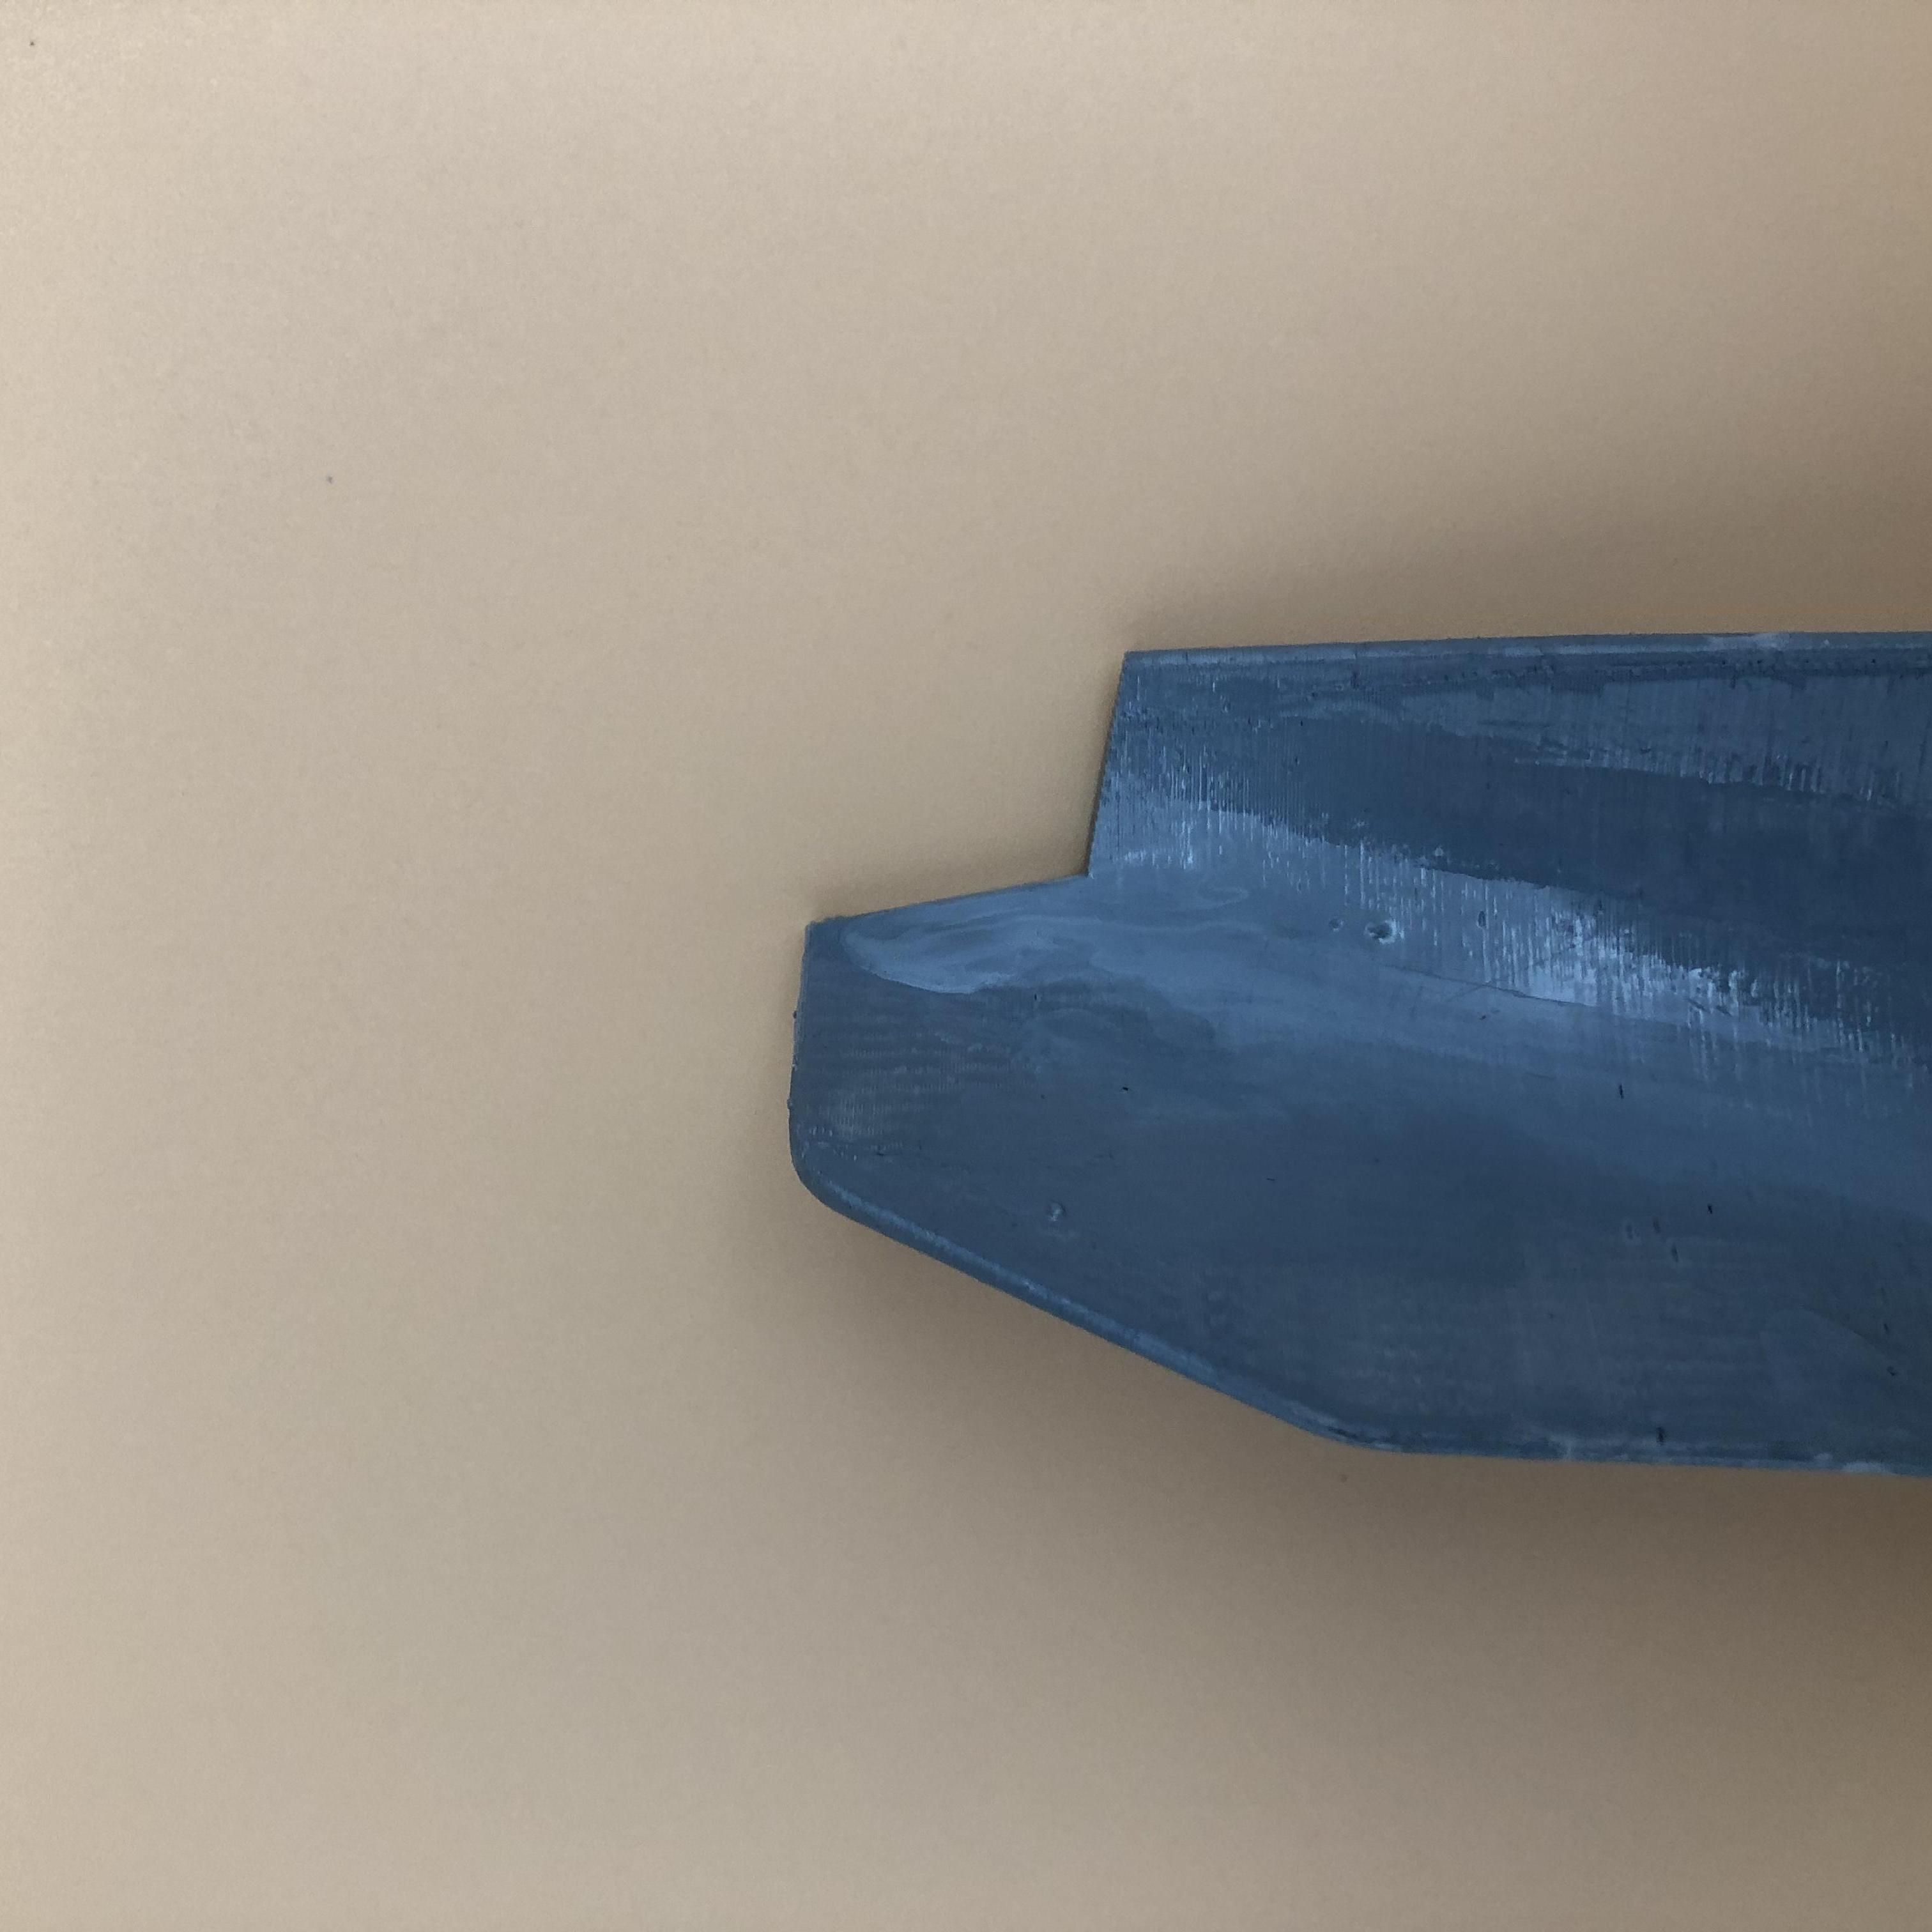fracture: (835, 725, 1272, 945)
